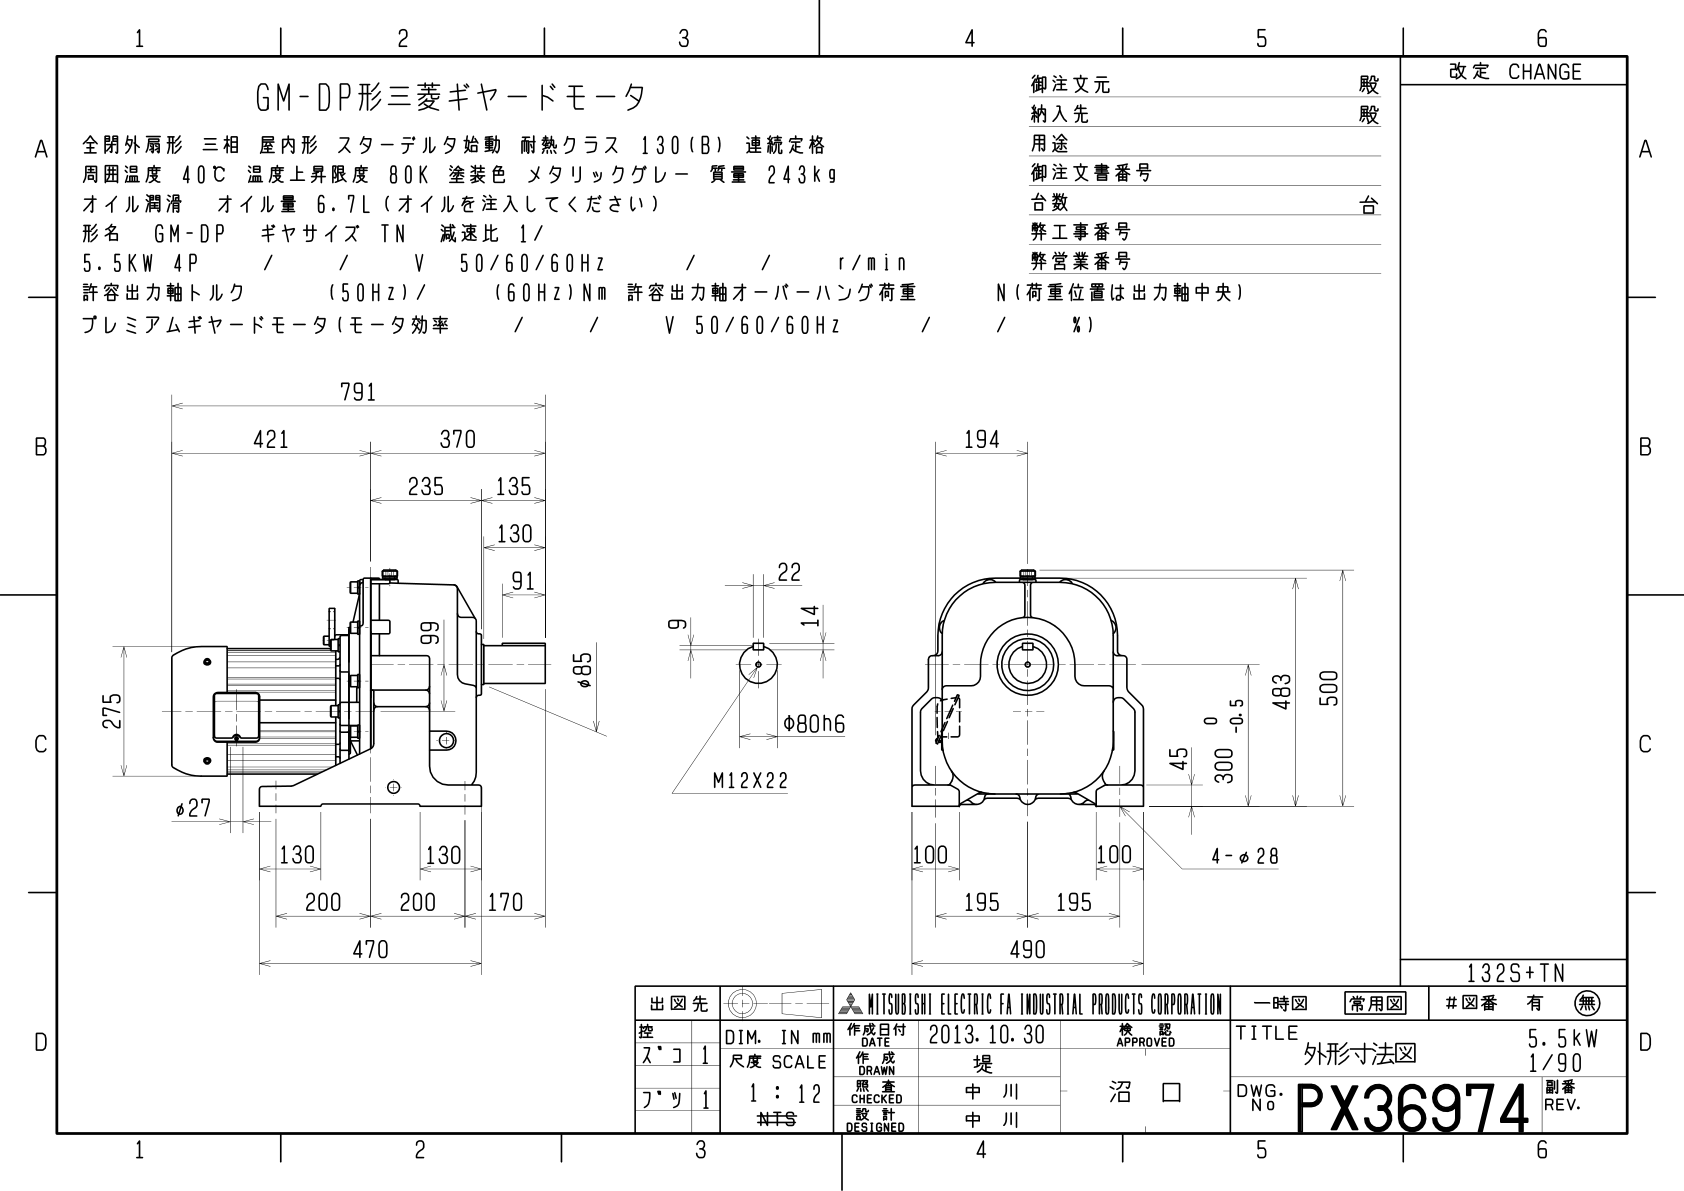GM_DP_屋内_三相_脚: (71, 354, 1370, 973)
